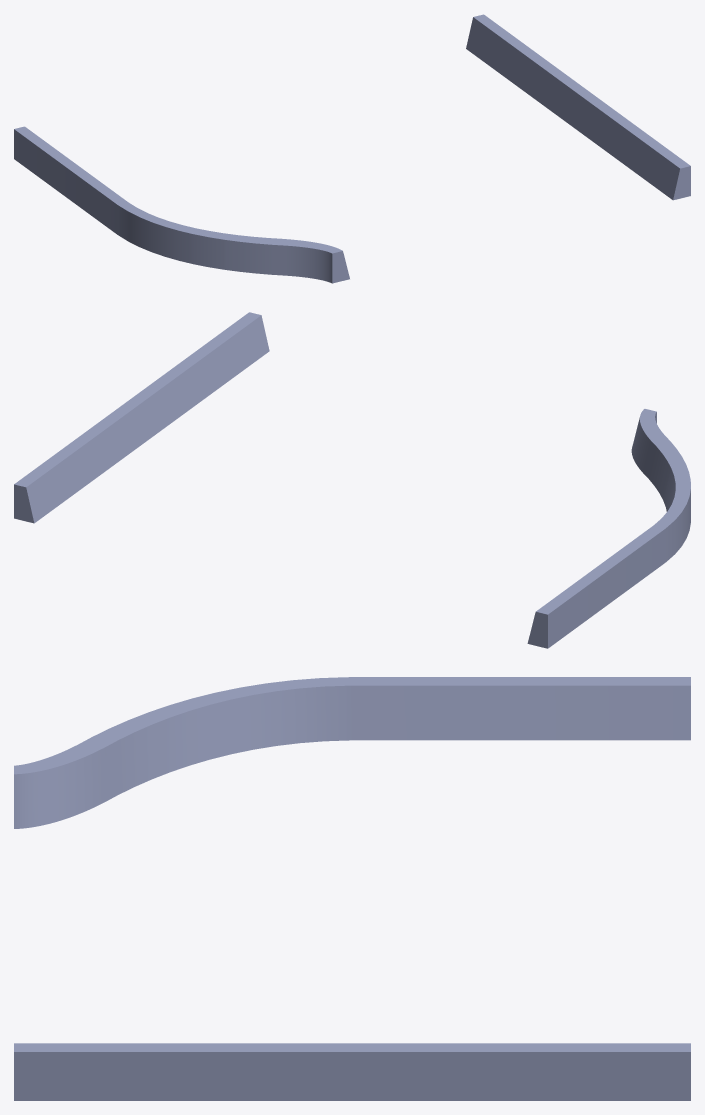
Rendered from road-side-exit-barrier.glb.
3 views of the same model, one above another, from view 1: azimuth 30°, elevation 25°; view 2: azimuth 150°, elevation 25°; view 3: azimuth 270°, elevation 25° (orthographic). The views are drawn at different scales.
Parts seen in each view (by area): view 1: road-side-exit-barrier; view 2: road-side-exit-barrier; view 3: road-side-exit-barrier.
Part boxes in pixels (bbox=[...]): road-side-exit-barrier: bbox=[14, 14, 690, 283]; road-side-exit-barrier: bbox=[14, 312, 690, 648]; road-side-exit-barrier: bbox=[14, 677, 690, 1100].
Bounding box in the file's own units: 1.31 × 0.08 × 1.
1 material, 1 textured.
